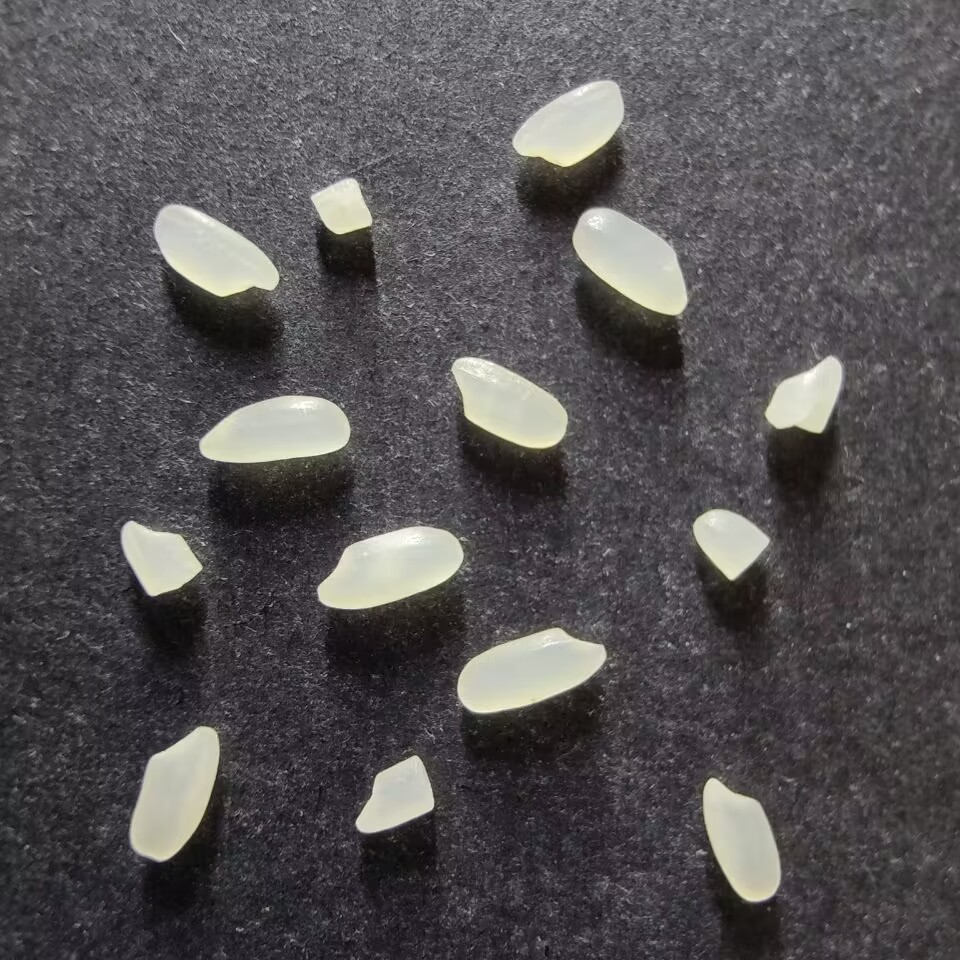broken: (353, 754, 436, 835), (118, 519, 202, 599), (763, 354, 843, 434), (691, 508, 769, 581), (308, 176, 374, 235)
rice: (454, 627, 607, 714), (570, 206, 688, 316), (128, 724, 220, 861), (315, 525, 463, 610), (152, 203, 278, 298), (449, 356, 568, 450), (197, 394, 350, 464), (701, 776, 781, 904), (511, 78, 624, 168)
